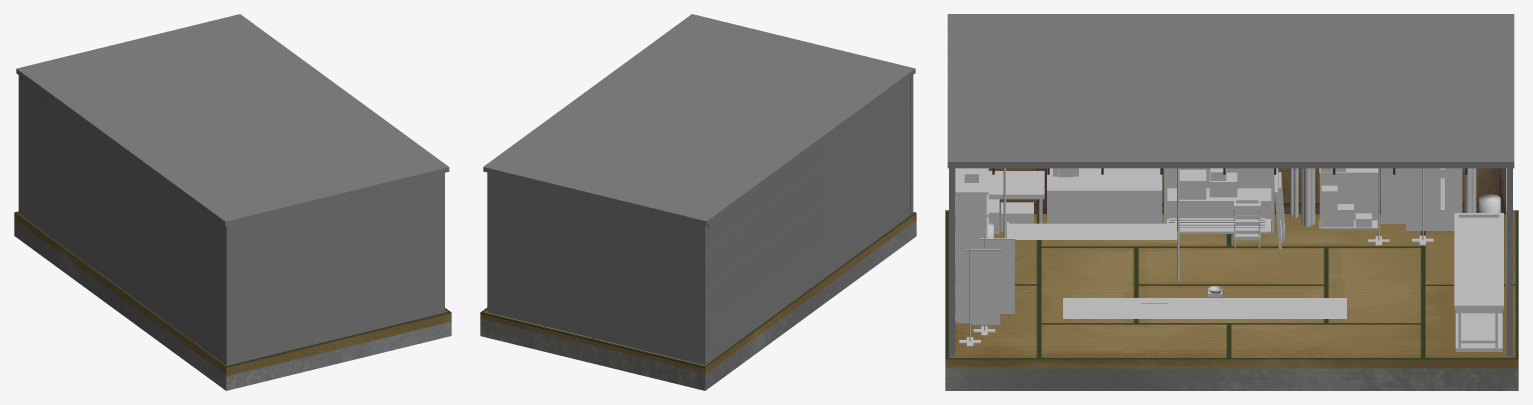
File: Sign making shop04.fbx
3 views of the same model, side by side, from view 1: azimuth 30°, elevation 25°; view 2: azimuth 150°, elevation 25°; view 3: azimuth 270°, elevation 25° (orthographic). The views are drawn at different scales.
Parts seen in each view (by area): view 1: Cube.122, Cube.109, Cube.108, Cube.096, Cube.110; view 2: Cube.122, Cube.110, Cube.108, Cube.096, Cube.109; view 3: Cube.122, Cube.096, Cube.062, Cube.031, Cube.043, Cube.019, Cube.052, Cube.045, Cube.108, Cylinder.011, Cube.051, Cylinder.013 (+10 smaller).
Part boxes in pixels (x1=…): Cube.122: x1=16, y1=14, x2=449, y2=226; Cube.109: x1=224, y1=173, x2=444, y2=365; Cube.108: x1=21, y1=77, x2=224, y2=363; Cube.096: x1=14, y1=211, x2=451, y2=390; Cube.110: x1=18, y1=75, x2=20, y2=214; Cube.122: x1=483, y1=14, x2=915, y2=225; Cube.110: x1=487, y1=172, x2=707, y2=365; Cube.108: x1=707, y1=77, x2=910, y2=363; Cube.096: x1=480, y1=212, x2=916, y2=390; Cube.109: x1=910, y1=75, x2=913, y2=214; Cube.122: x1=947, y1=14, x2=1514, y2=168; Cube.096: x1=945, y1=210, x2=1518, y2=390; Cube.062: x1=1454, y1=213, x2=1503, y2=351; Cube.031: x1=1047, y1=168, x2=1162, y2=223; Cube.043: x1=1063, y1=298, x2=1346, y2=318; Cube.019: x1=1164, y1=168, x2=1274, y2=233; Cube.052: x1=955, y1=168, x2=988, y2=323; Cube.045: x1=1009, y1=223, x2=1174, y2=239; Cube.108: x1=988, y1=168, x2=1505, y2=213; Cylinder.011: x1=959, y1=247, x2=1001, y2=346; Cube.051: x1=1319, y1=168, x2=1378, y2=229; Cylinder.013: x1=1368, y1=168, x2=1408, y2=245.
Bounding box in the file's own units: 265 × 190 × 432.
